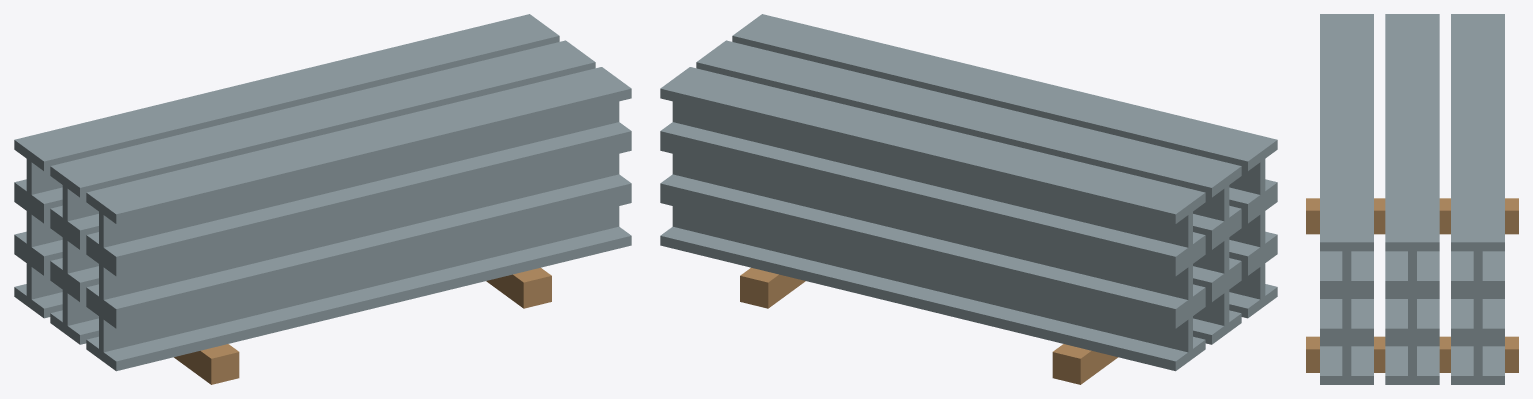
Rendered from Steel_Beam_Stack.fbx.
The picture shows the model from 3 angles, left to right: view 1: azimuth 30°, elevation 25°; view 2: azimuth 150°, elevation 25°; view 3: azimuth 270°, elevation 25°; orthographic projection. The views are drawn at different scales.
Visible parts, largest first — view 1: I Beam Upper Flange.006, I Beam Upper Flange.008, I Beam Upper Flange.007, I Beam Lower Flange.003, I Beam Lower Flange, I Beam Lower Flange.006, I Beam Web.006, I Beam Web.003, I Beam Web, I Beam Upper Flange, I Beam Upper Flange.003, Steel Dunnage (+13 smaller); view 2: I Beam Upper Flange.008, I Beam Upper Flange.006, I Beam Upper Flange.007, I Beam Lower Flange.008, I Beam Lower Flange.005, I Beam Lower Flange.002, I Beam Web.002, I Beam Web.005, I Beam Web.008, I Beam Upper Flange.005, I Beam Upper Flange.002, Steel Dunnage (+13 smaller); view 3: I Beam Upper Flange.007, I Beam Upper Flange.006, I Beam Upper Flange.008, Steel Dunnage, Steel Dunnage.001, I Beam Lower Flange.004, I Beam Lower Flange.001, I Beam Lower Flange.007, I Beam Lower Flange.003, I Beam Lower Flange.005, I Beam Lower Flange.002, I Beam Lower Flange.006 (+17 smaller).
Part boxes in pixels (x1,y1,x2,y2): I Beam Upper Flange.006: (86,67,631,223); I Beam Upper Flange.008: (14,14,559,171); I Beam Upper Flange.007: (50,40,595,197); I Beam Lower Flange.003: (86,174,631,318); I Beam Lower Flange: (86,226,631,371); I Beam Lower Flange.006: (86,122,631,266); I Beam Web.006: (99,101,619,249); I Beam Web.003: (99,154,619,301); I Beam Web: (99,206,619,354); I Beam Upper Flange: (86,193,631,328); I Beam Upper Flange.003: (86,141,631,276); Steel Dunnage: (174,344,239,384); I Beam Upper Flange.008: (660,67,1205,223); I Beam Upper Flange.006: (732,14,1277,171); I Beam Upper Flange.007: (696,40,1241,197); I Beam Lower Flange.008: (660,122,1205,266); I Beam Lower Flange.005: (660,174,1205,318); I Beam Lower Flange.002: (660,226,1205,371); I Beam Web.002: (672,206,1192,354); I Beam Web.005: (672,154,1192,301); I Beam Web.008: (672,101,1192,247); I Beam Upper Flange.005: (660,141,1205,276); I Beam Upper Flange.002: (660,193,1205,328); Steel Dunnage: (1052,344,1117,384); I Beam Upper Flange.007: (1385,14,1439,251); I Beam Upper Flange.006: (1320,14,1373,251); I Beam Upper Flange.008: (1451,14,1504,251); Steel Dunnage: (1306,198,1518,234); Steel Dunnage.001: (1306,336,1518,372); I Beam Lower Flange.004: (1385,299,1439,337); I Beam Lower Flange.001: (1385,346,1439,384); I Beam Lower Flange.007: (1385,251,1439,289); I Beam Lower Flange.003: (1320,299,1373,337); I Beam Lower Flange.005: (1451,299,1504,337); I Beam Lower Flange.002: (1451,346,1504,384); I Beam Lower Flange.006: (1320,251,1373,289).
Bounding box in the file's own units: 330 × 114 × 130.
